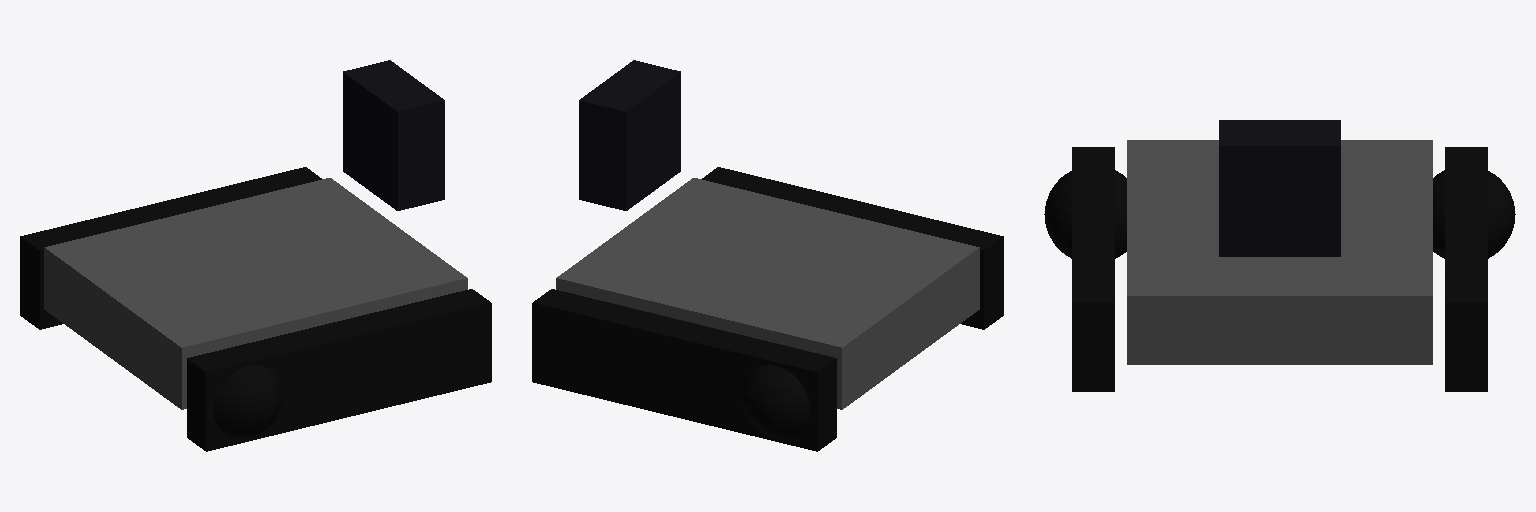
The robot description file, URDF, robot "payload_pwm":
<?xml version="1.0" ?>
<!-- =================================================================================== -->
<!-- |    This document was autogenerated by xacro from controls/sae_2025_ws/src/payload/urdf/payload_pwm.urdf.xacro | -->
<!-- |    EDITING THIS FILE BY HAND IS NOT RECOMMENDED                                 | -->
<!-- =================================================================================== -->
<robot name="payload_pwm">
  <!--
    Canonical payload description for both RViz and Gazebo Sim.

    Coordinate convention:
      x: forward
      y: left
      z: up

    These dimensions are properties so measured values can replace the
    prototype geometry without changing link, joint, plugin, or launch APIs.
  -->
  <material name="payload_body_color">
    <color rgba="0.35 0.35 0.35 1.0"/>
  </material>
  <material name="payload_tread_color">
    <color rgba="0.08 0.08 0.08 1.0"/>
  </material>
  <material name="payload_camera_color">
    <color rgba="0.10 0.10 0.12 1.0"/>
  </material>
  <link name="base_link">
    <visual name="body_visual">
      <origin rpy="0 0 0" xyz="0 0 0"/>
      <geometry>
        <box size="0.12033 0.1 0.025"/>
      </geometry>
      <material name="payload_body_color"/>
    </visual>
    <!-- Treads are visual approximations; the wheels handle contact. -->
    <visual name="left_tread_visual">
      <origin rpy="0 0 0" xyz="0 0.06066 -0.00625"/>
      <geometry>
        <box size="0.12 0.014 0.032"/>
      </geometry>
      <material name="payload_tread_color"/>
    </visual>
    <visual name="right_tread_visual">
      <origin rpy="0 0 0" xyz="0 -0.06066 -0.00625"/>
      <geometry>
        <box size="0.12 0.014 0.032"/>
      </geometry>
      <material name="payload_tread_color"/>
    </visual>
    <collision name="body_collision">
      <origin rpy="0 0 0" xyz="0 0 0"/>
      <geometry>
        <box size="0.12033 0.1 0.025"/>
      </geometry>
    </collision>
    <inertial>
      <origin rpy="0 0 0" xyz="0 0 0"/>
      <mass value="0.5"/>
      <inertia ixx="0.0004427083333333334" ixy="0.0" ixz="0.0" iyy="0.0006293462041666668" iyz="0.0" izz="0.0010199712041666668"/>
    </inertial>
  </link>
  <link name="front_left_wheel">
    <visual>
      <origin rpy="1.57079632679 0 0" xyz="0 0 0"/>
      <geometry>
        <cylinder length="0.01338964" radius="0.01611839"/>
      </geometry>
      <material name="payload_tread_color"/>
    </visual>
    <collision>
      <origin rpy="1.57079632679 0 0" xyz="0 0 0"/>
      <geometry>
        <cylinder length="0.01338964" radius="0.01611839"/>
      </geometry>
    </collision>
    <inertial>
      <origin rpy="0 0 0" xyz="0 0 0"/>
      <mass value="0.05"/>
      <!-- Solid-cylinder inertia with the cylinder axis along y. -->
      <inertia ixx="3.994541449607917e-06" ixy="0.0" ixz="0.0" iyy="6.4950624048025005e-06" iyz="0.0" izz="3.994541449607917e-06"/>
    </inertial>
  </link>
  <joint name="front_left_wheel_joint" type="continuous">
    <origin rpy="0 0 0" xyz="0.0425 0.06066 -0.00625"/>
    <parent link="base_link"/>
    <child link="front_left_wheel"/>
    <axis xyz="0 1 0"/>
    <dynamics damping="0.01" friction="0.0"/>
  </joint>
  <gazebo reference="front_left_wheel">
    <mu1>1.0</mu1>
    <mu2>1.0</mu2>
  </gazebo>
  <link name="rear_left_wheel">
    <visual>
      <origin rpy="0 0 0" xyz="0 0 0"/>
      <geometry>
        <sphere radius="0.01611839"/>
      </geometry>
      <material name="payload_tread_color"/>
    </visual>
    <collision>
      <origin rpy="0 0 0" xyz="0 0 0"/>
      <geometry>
        <sphere radius="0.01611839"/>
      </geometry>
    </collision>
    <inertial>
      <origin rpy="0 0 0" xyz="0 0 0"/>
      <mass value="0.05"/>
      <inertia ixx="5.1960499238420005e-06" ixy="0.0" ixz="0.0" iyy="5.1960499238420005e-06" iyz="0.0" izz="5.1960499238420005e-06"/>
    </inertial>
  </link>
  <joint name="rear_left_wheel_joint" type="continuous">
    <origin rpy="0 0 0" xyz="-0.0425 0.06066 -0.00625"/>
    <parent link="base_link"/>
    <child link="rear_left_wheel"/>
    <axis xyz="0 1 0"/>
    <dynamics damping="0.0" friction="0.0"/>
  </joint>
  <gazebo reference="rear_left_wheel">
    <mu1>0.05</mu1>
    <mu2>0.05</mu2>
  </gazebo>
  <link name="front_right_wheel">
    <visual>
      <origin rpy="1.57079632679 0 0" xyz="0 0 0"/>
      <geometry>
        <cylinder length="0.01338964" radius="0.01611839"/>
      </geometry>
      <material name="payload_tread_color"/>
    </visual>
    <collision>
      <origin rpy="1.57079632679 0 0" xyz="0 0 0"/>
      <geometry>
        <cylinder length="0.01338964" radius="0.01611839"/>
      </geometry>
    </collision>
    <inertial>
      <origin rpy="0 0 0" xyz="0 0 0"/>
      <mass value="0.05"/>
      <!-- Solid-cylinder inertia with the cylinder axis along y. -->
      <inertia ixx="3.994541449607917e-06" ixy="0.0" ixz="0.0" iyy="6.4950624048025005e-06" iyz="0.0" izz="3.994541449607917e-06"/>
    </inertial>
  </link>
  <joint name="front_right_wheel_joint" type="continuous">
    <origin rpy="0 0 0" xyz="0.0425 -0.06066 -0.00625"/>
    <parent link="base_link"/>
    <child link="front_right_wheel"/>
    <axis xyz="0 1 0"/>
    <dynamics damping="0.01" friction="0.0"/>
  </joint>
  <gazebo reference="front_right_wheel">
    <mu1>1.0</mu1>
    <mu2>1.0</mu2>
  </gazebo>
  <link name="rear_right_wheel">
    <visual>
      <origin rpy="0 0 0" xyz="0 0 0"/>
      <geometry>
        <sphere radius="0.01611839"/>
      </geometry>
      <material name="payload_tread_color"/>
    </visual>
    <collision>
      <origin rpy="0 0 0" xyz="0 0 0"/>
      <geometry>
        <sphere radius="0.01611839"/>
      </geometry>
    </collision>
    <inertial>
      <origin rpy="0 0 0" xyz="0 0 0"/>
      <mass value="0.05"/>
      <inertia ixx="5.1960499238420005e-06" ixy="0.0" ixz="0.0" iyy="5.1960499238420005e-06" iyz="0.0" izz="5.1960499238420005e-06"/>
    </inertial>
  </link>
  <joint name="rear_right_wheel_joint" type="continuous">
    <origin rpy="0 0 0" xyz="-0.0425 -0.06066 -0.00625"/>
    <parent link="base_link"/>
    <child link="rear_right_wheel"/>
    <axis xyz="0 1 0"/>
    <dynamics damping="0.0" friction="0.0"/>
  </joint>
  <gazebo reference="rear_right_wheel">
    <mu1>0.05</mu1>
    <mu2>0.05</mu2>
  </gazebo>
  <link name="camera_link">
    <visual>
      <origin rpy="0 0 0" xyz="0 0 0"/>
      <geometry>
        <box size="0.02 0.04 0.04"/>
      </geometry>
      <material name="payload_camera_color"/>
    </visual>
    <collision>
      <origin rpy="0 0 0" xyz="0 0 0"/>
      <geometry>
        <box size="0.02 0.04 0.04"/>
      </geometry>
    </collision>
    <inertial>
      <origin rpy="0 0 0" xyz="0 0 0"/>
      <mass value="0.05"/>
      <inertia ixx="1.3333333333333335e-05" ixy="0.0" ixz="0.0" iyy="8.333333333333334e-06" iyz="0.0" izz="8.333333333333334e-06"/>
    </inertial>
  </link>
  <joint name="camera_joint" type="fixed">
    <origin rpy="0 0 0" xyz="0.058 0.0 0.05"/>
    <parent link="base_link"/>
    <child link="camera_link"/>
  </joint>
  <!-- Standard ROS optical-frame convention: z forward, x right, y down. -->
  <link name="camera_optical_frame"/>
  <joint name="camera_optical_joint" type="fixed">
    <origin rpy="-1.57079632679 0 -1.57079632679" xyz="0 0 0"/>
    <parent link="camera_link"/>
    <child link="camera_optical_frame"/>
  </joint>
  <!-- Keep camera_link as an SDF link so its scoped Gazebo topic is stable. -->
  <gazebo reference="camera_joint">
    <preserveFixedJoint>true</preserveFixedJoint>
  </gazebo>
  <gazebo reference="camera_link">
    <sensor name="camera" type="camera">
      <pose>0 0 0 0 0 0</pose>
      <gz_frame_id>camera_optical_frame</gz_frame_id>
      <always_on>true</always_on>
      <update_rate>30</update_rate>
      <visualize>true</visualize>
      <camera>
        <horizontal_fov>1.74</horizontal_fov>
        <image>
          <width>1280</width>
          <height>960</height>
          <format>R8G8B8</format>
        </image>
        <clip>
          <near>0.1</near>
          <far>3000.0</far>
        </clip>
      </camera>
    </sensor>
  </gazebo>
  <gazebo reference="base_link">
    <sensor name="imu_sensor" type="imu">
      <pose>0 0 0 0 0 0</pose>
      <gz_frame_id>base_link</gz_frame_id>
      <always_on>true</always_on>
      <update_rate>200</update_rate>
      <visualize>false</visualize>
      <imu>
        <angular_velocity>
          <x>
            <noise type="gaussian">
              <mean>0.0</mean>
              <stddev>0.0002</stddev>
            </noise>
          </x>
          <y>
            <noise type="gaussian">
              <mean>0.0</mean>
              <stddev>0.0002</stddev>
            </noise>
          </y>
          <z>
            <noise type="gaussian">
              <mean>0.0</mean>
              <stddev>0.0002</stddev>
            </noise>
          </z>
        </angular_velocity>
        <linear_acceleration>
          <x>
            <noise type="gaussian">
              <mean>0.0</mean>
              <stddev>0.01</stddev>
            </noise>
          </x>
          <y>
            <noise type="gaussian">
              <mean>0.0</mean>
              <stddev>0.01</stddev>
            </noise>
          </y>
          <z>
            <noise type="gaussian">
              <mean>0.0</mean>
              <stddev>0.01</stddev>
            </noise>
          </z>
        </linear_acceleration>
      </imu>
    </sensor>
  </gazebo>
  <gazebo>
    <self_collide>false</self_collide>
    <!-- Apply wheel-joint torque in N*m via gz.msgs.Double on
         /model/<model>/joint/<joint_name>/cmd_force. -->
    <plugin filename="gz-sim-apply-joint-force-system" name="gz::sim::systems::ApplyJointForce">
      <joint_name>front_left_wheel_joint</joint_name>
    </plugin>
    <plugin filename="gz-sim-apply-joint-force-system" name="gz::sim::systems::ApplyJointForce">
      <joint_name>front_right_wheel_joint</joint_name>
    </plugin>
    <!-- Enables a later Gazebo joint-state bridge for animated RViz wheels. -->
    <plugin filename="gz-sim-joint-state-publisher-system" name="gz::sim::systems::JointStatePublisher">
      <update_rate>20</update_rate>
      <joint_name>front_left_wheel_joint</joint_name>
      <joint_name>front_right_wheel_joint</joint_name>
    </plugin>
    <!-- Enables a later Gazebo pose-to-TF bridge for live RViz motion. -->
    <plugin filename="gz-sim-pose-publisher-system" name="gz::sim::systems::PosePublisher">
      <publish_link_pose>true</publish_link_pose>
      <use_pose_vector_msg>true</use_pose_vector_msg>
      <static_publisher>true</static_publisher>
      <static_update_frequency>1</static_update_frequency>
    </plugin>
  </gazebo>
</robot>

--- Facts derived from the render (not from the file) ---
Views: 3 orthographic renders of the robot side by side, from view 1: azimuth 30°, elevation 25°; view 2: azimuth 150°, elevation 25°; view 3: azimuth 270°, elevation 25°.
Robot: payload_pwm — 7 links, 6 joints (4 continuous, 2 fixed); root link base_link; default pose: every joint at zero.
Visible links, largest first — view 1: base_link, camera_link, rear_right_wheel; view 2: base_link, camera_link, rear_left_wheel; view 3: base_link, camera_link, rear_left_wheel, rear_right_wheel.
Boxes of the visible links, left/top/right/bottom form: base_link: left=20, top=167, right=491, bottom=451; camera_link: left=343, top=60, right=444, bottom=210; rear_right_wheel: left=213, top=354, right=281, bottom=438; base_link: left=532, top=167, right=1003, bottom=451; camera_link: left=579, top=60, right=680, bottom=210; rear_left_wheel: left=742, top=354, right=810, bottom=438; base_link: left=1072, top=140, right=1487, bottom=391; camera_link: left=1219, top=120, right=1340, bottom=256; rear_left_wheel: left=1433, top=169, right=1515, bottom=258; rear_right_wheel: left=1044, top=169, right=1126, bottom=258.
Size in the robot's own frame: 0.1282 by 0.1536 by 0.0924 metres.
Geometry: primitives only (box / cylinder / sphere), no mesh files.
